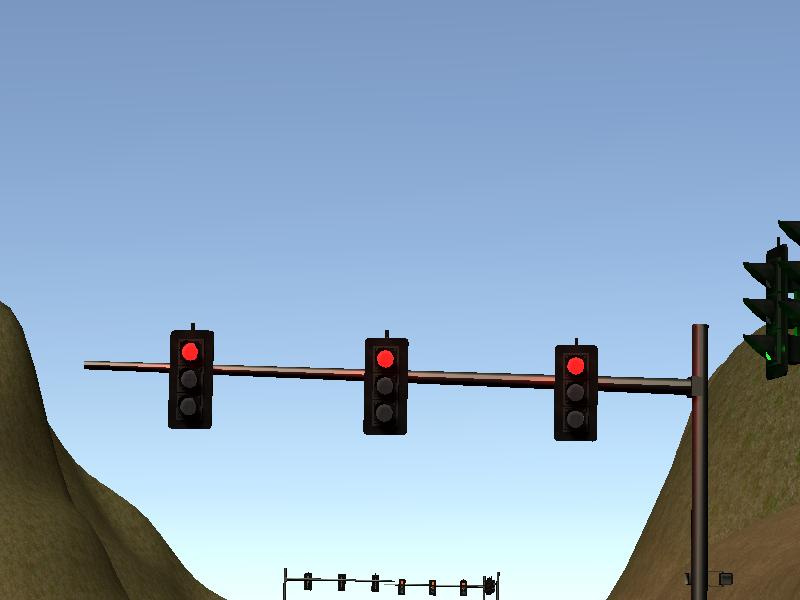Red: (169, 327, 212, 428), (363, 338, 407, 435), (555, 345, 596, 441)
